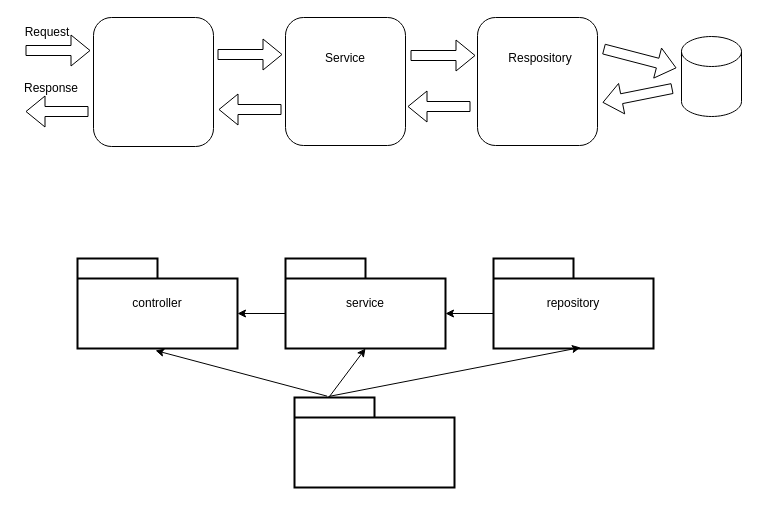
This 759x506 diagram has some shape labels left out. Each missing label, with the centre of its shape:
"Database" belongs at (711,76).
"model" belongs at (374,442).
"Presentation" belongs at (153,81).
